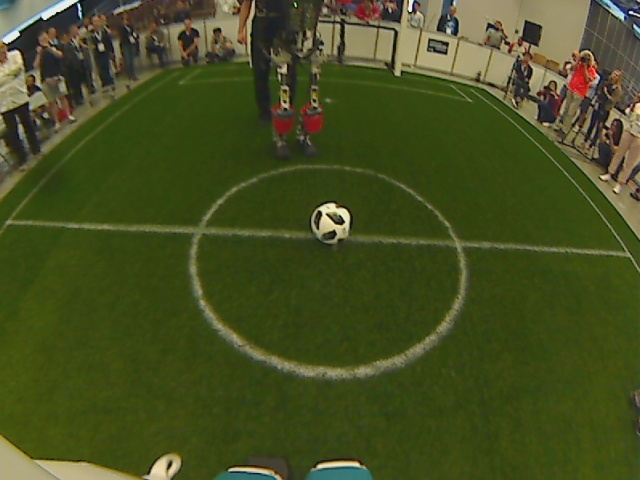ball: (306, 199, 356, 247)
